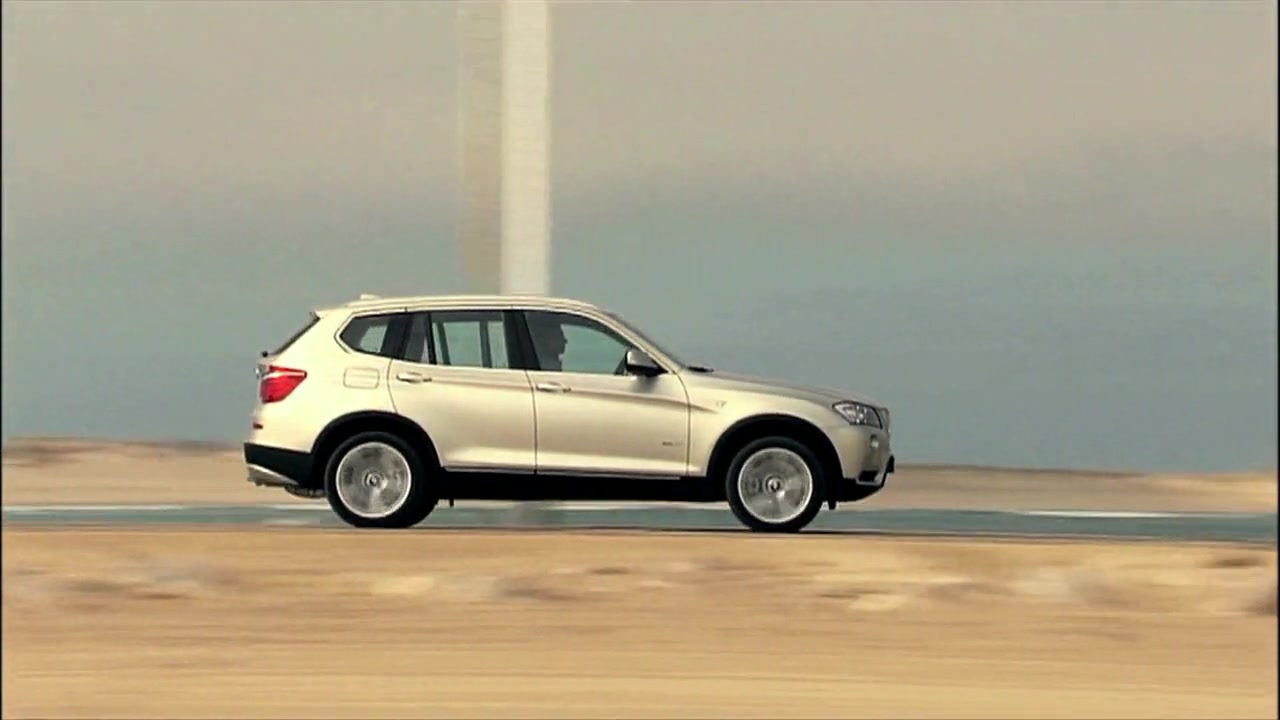car: (243, 292, 899, 536)
